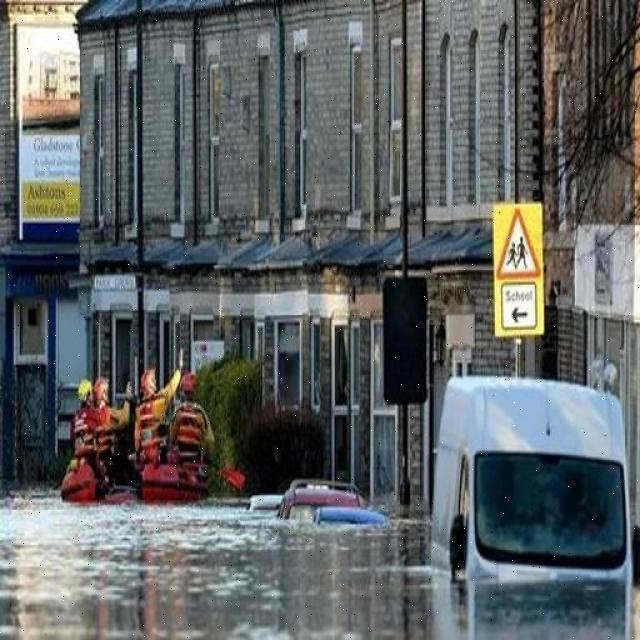rescuer: (64, 372, 116, 510), (167, 360, 221, 484), (130, 360, 176, 490), (84, 362, 130, 492)
